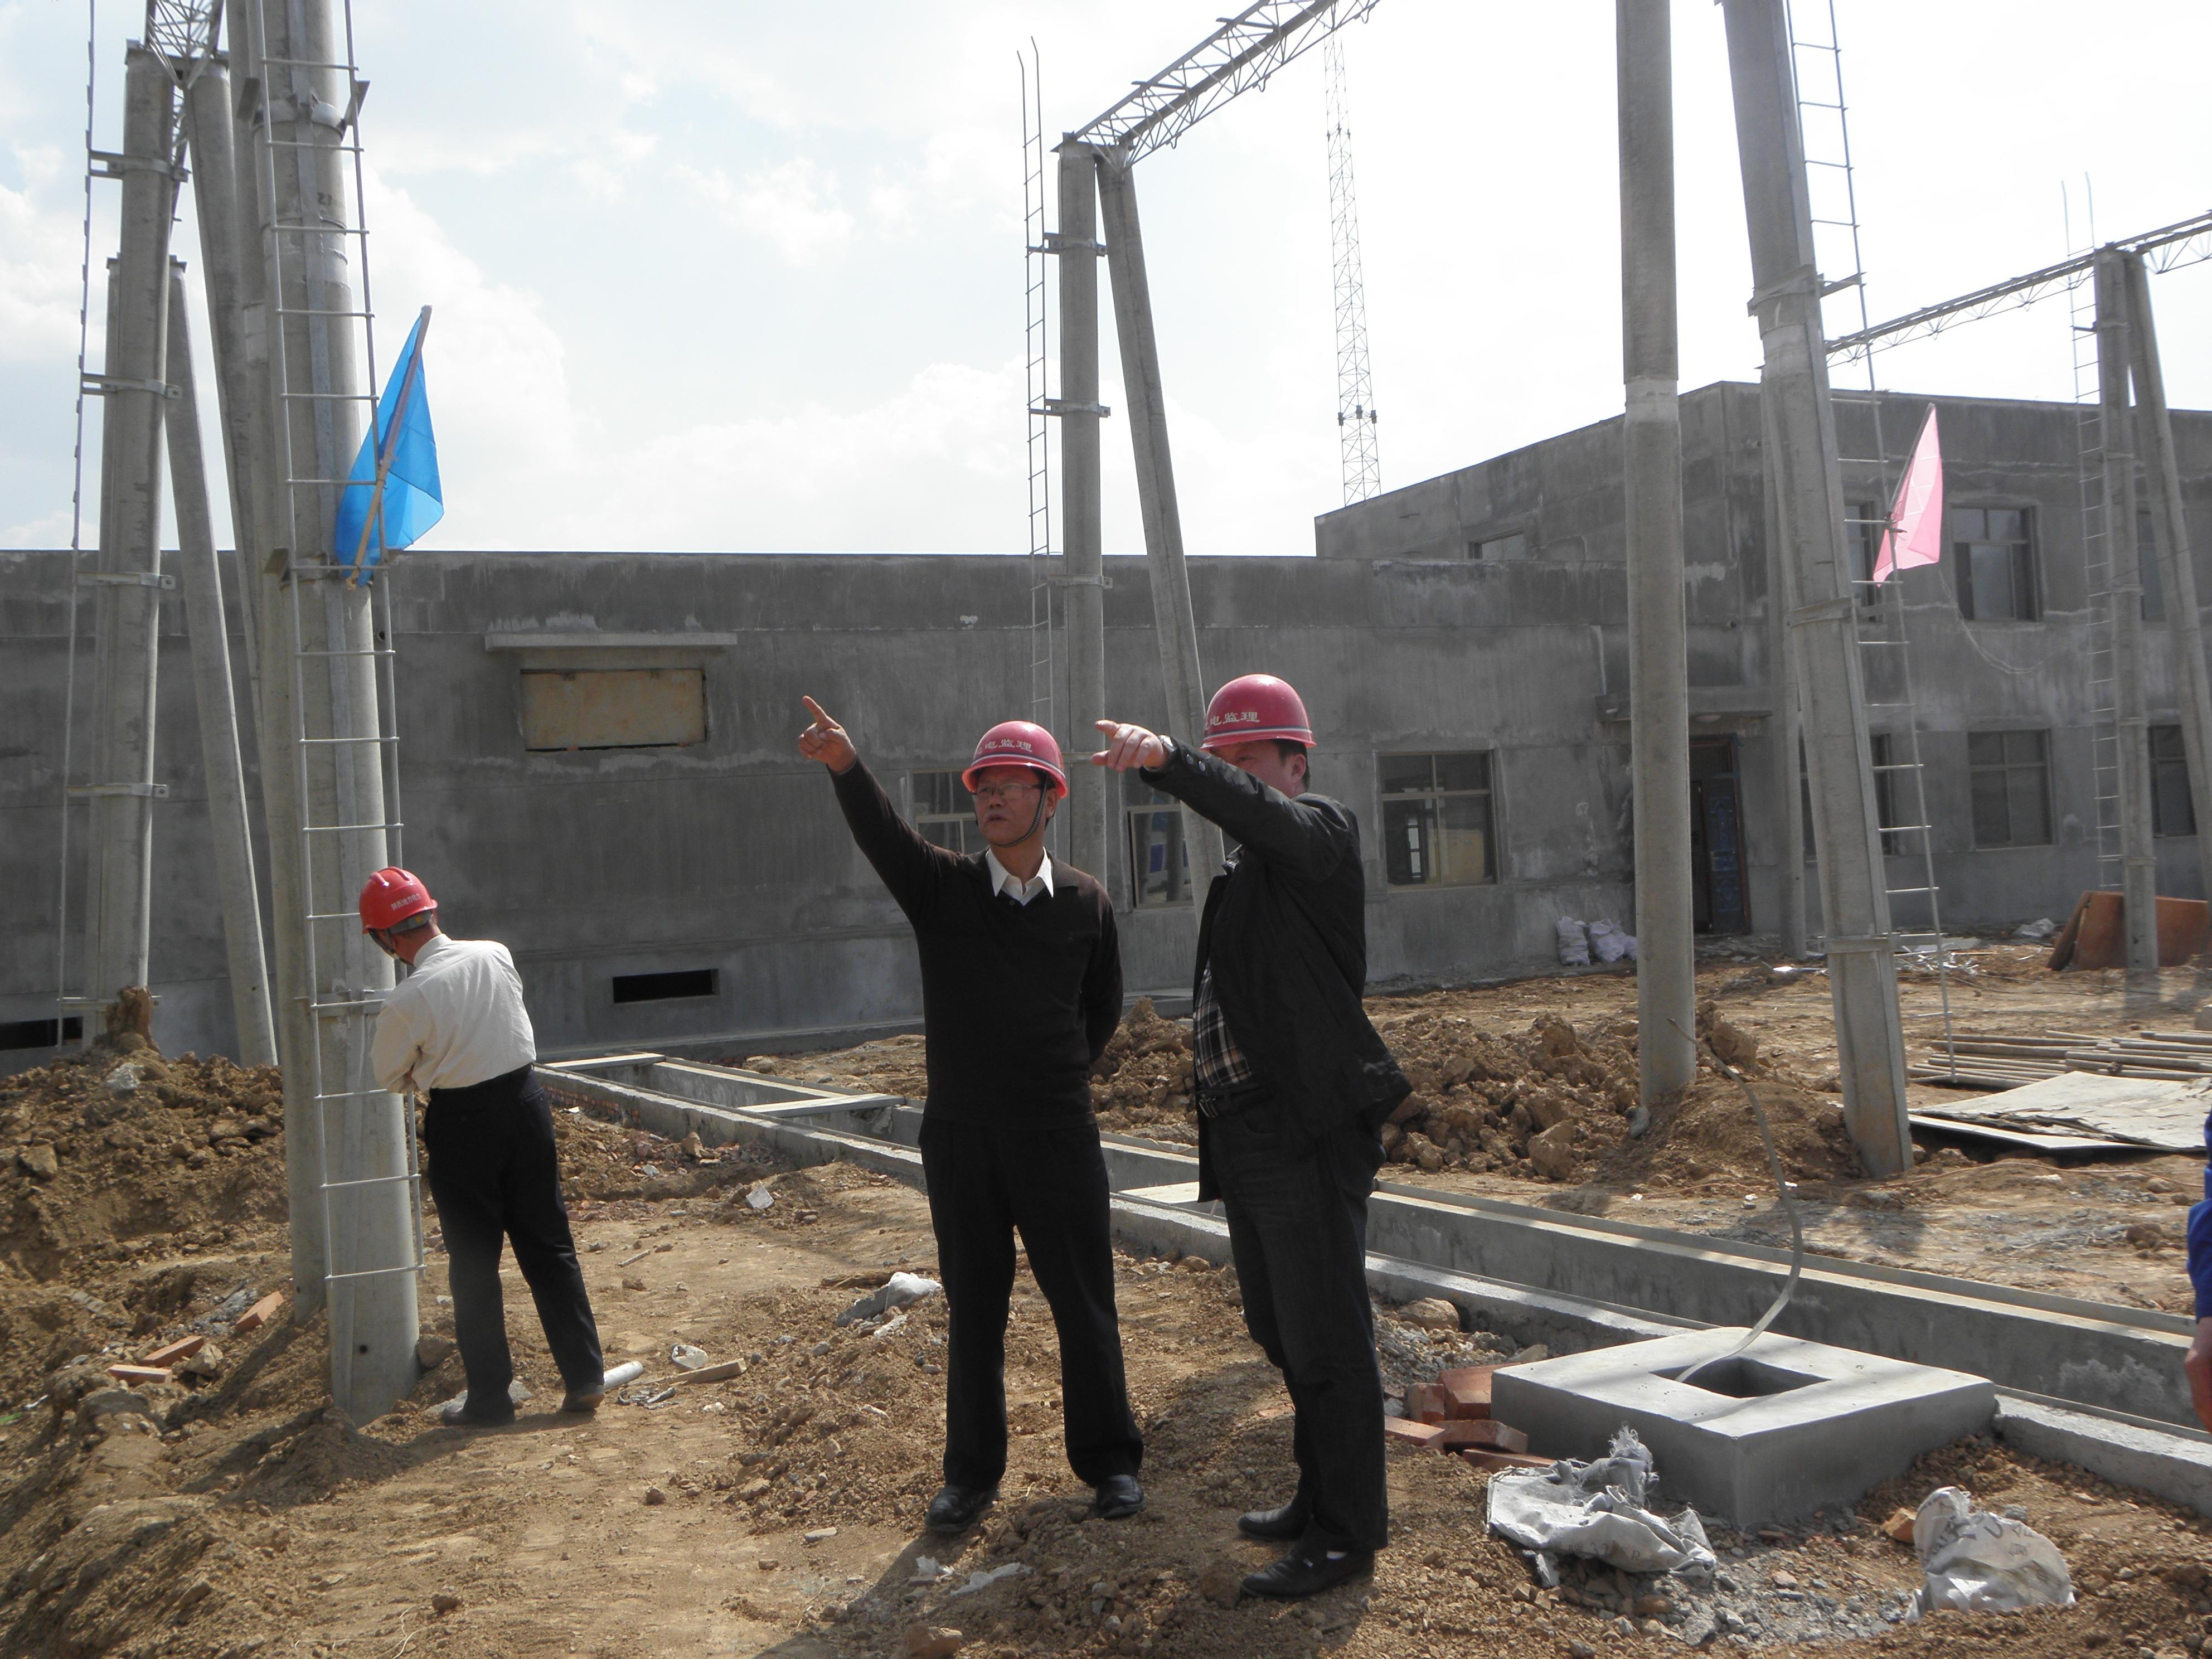red: (1197, 673, 1315, 810), (960, 714, 1069, 850), (350, 864, 441, 962)
